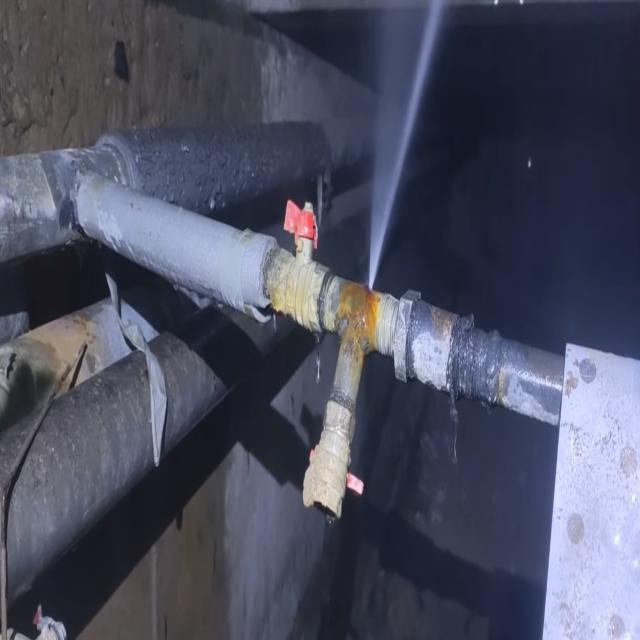leak: (369, 0, 442, 288)
